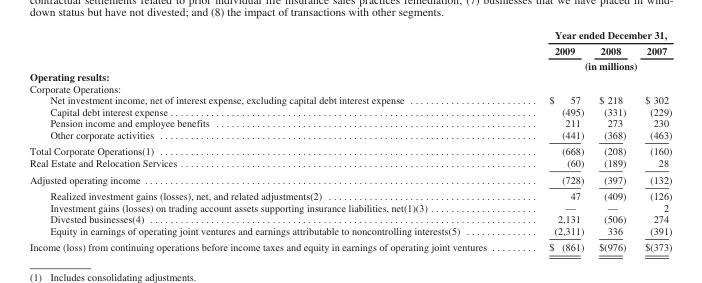table: (28, 28, 671, 252)
table column: (28, 28, 517, 252), (517, 28, 590, 252), (590, 28, 634, 252), (634, 28, 671, 252)
table column header: (28, 28, 671, 70)
table projected row header: (28, 70, 671, 82), (28, 82, 671, 94)
table row: (28, 170, 671, 187), (28, 42, 671, 57), (28, 28, 671, 42), (28, 128, 671, 142), (28, 142, 671, 156), (28, 156, 671, 170), (28, 187, 671, 201), (28, 224, 671, 238), (28, 238, 671, 252), (28, 57, 671, 70), (28, 70, 671, 82), (28, 82, 671, 94), (28, 105, 671, 117), (28, 212, 671, 224), (28, 94, 671, 105), (28, 117, 671, 128), (28, 201, 671, 212)
table spanning cell: (517, 28, 671, 42), (517, 57, 671, 70)
